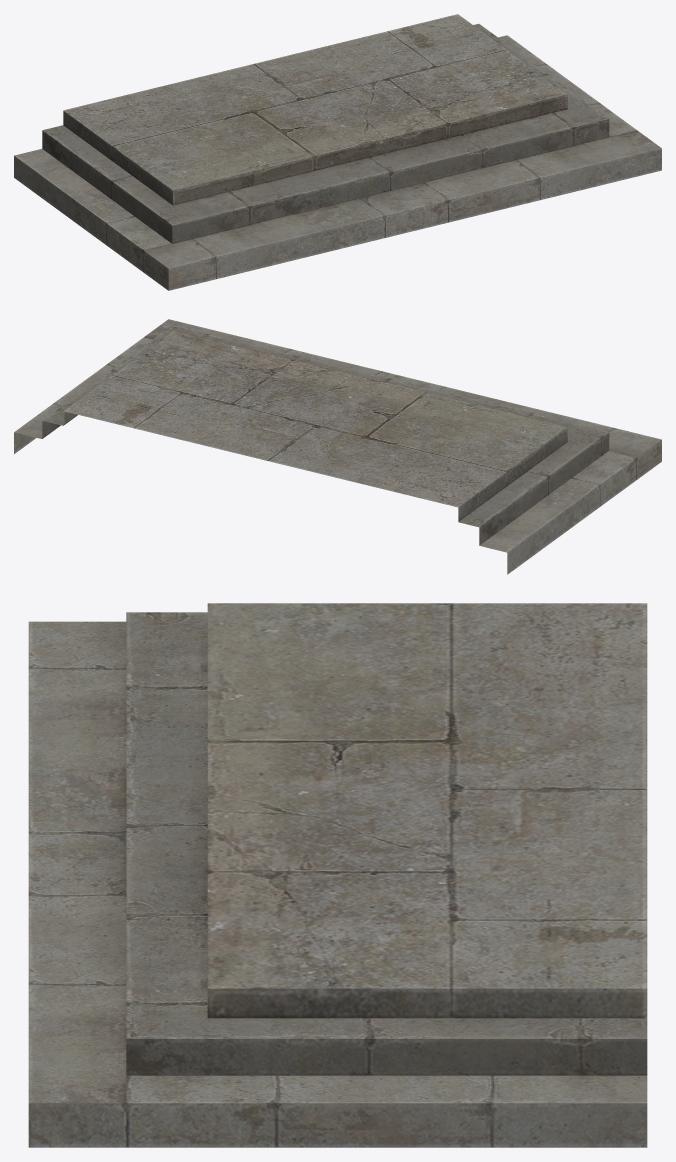
File: bg_lut_lucastle_housestair01_sm_sup.FBX
3 views of the same model, one above another, from view 1: azimuth 30°, elevation 25°; view 2: azimuth 150°, elevation 25°; view 3: azimuth 270°, elevation 25° (orthographic). The views are drawn at different scales.
Parts seen in each view (by area): view 1: bg_lut_lucastle_housestair01_sm_sup; view 2: bg_lut_lucastle_housestair01_sm_sup; view 3: bg_lut_lucastle_housestair01_sm_sup.
Boxes of the visible parts, <box> form: bg_lut_lucastle_housestair01_sm_sup: <box>14,14,661,290</box>; bg_lut_lucastle_housestair01_sm_sup: <box>14,319,661,574</box>; bg_lut_lucastle_housestair01_sm_sup: <box>28,603,647,1147</box>.
Size of the model in its own units: 280 by 30 by 152.
